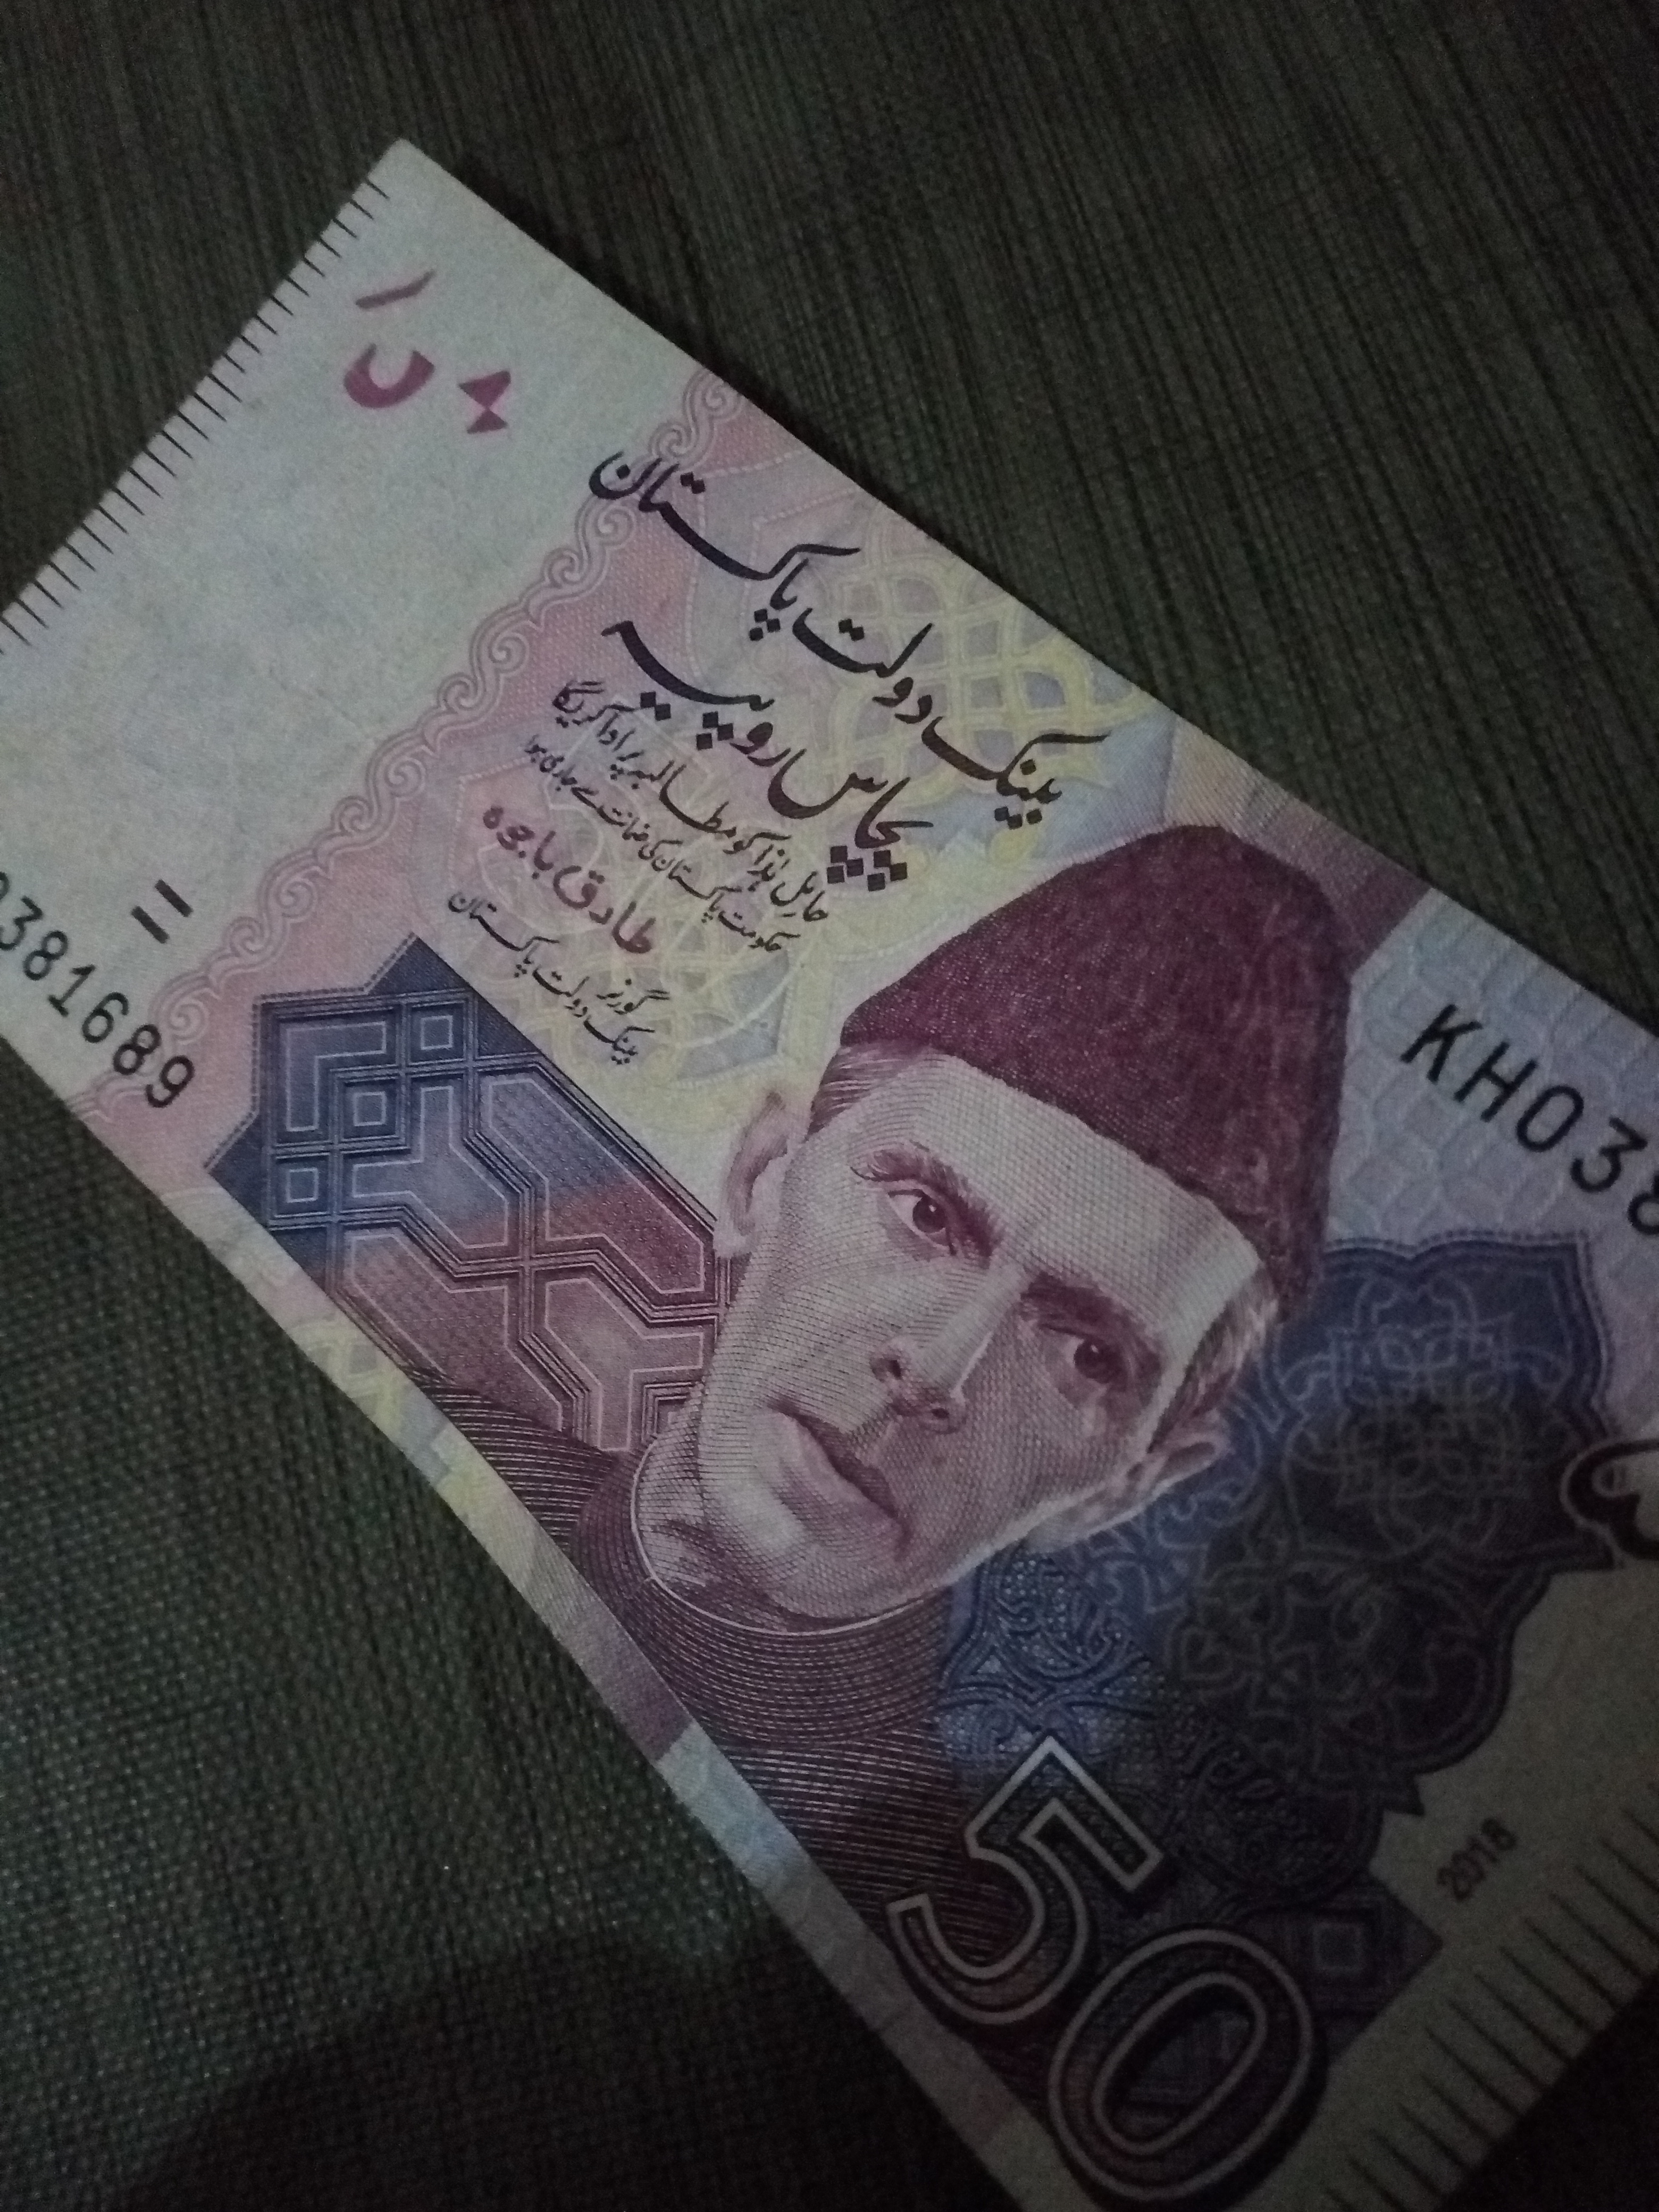50 rupee: (30, 108, 1638, 2189)
